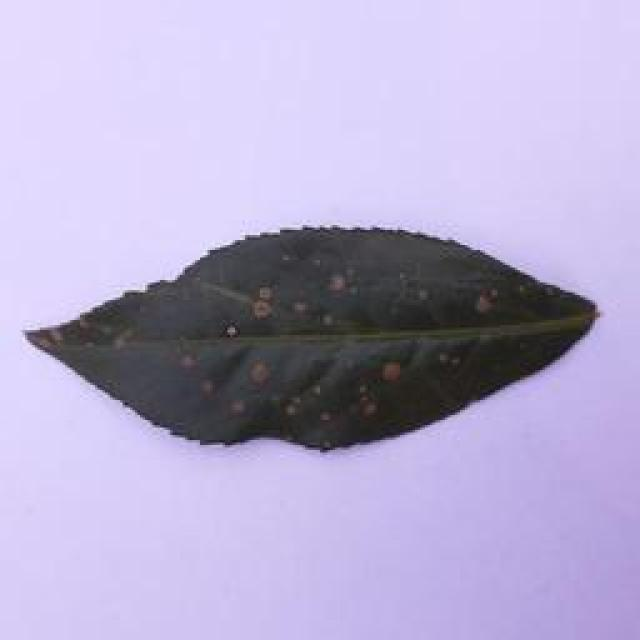Algal Leaf Spot: (0, 197, 633, 460)
